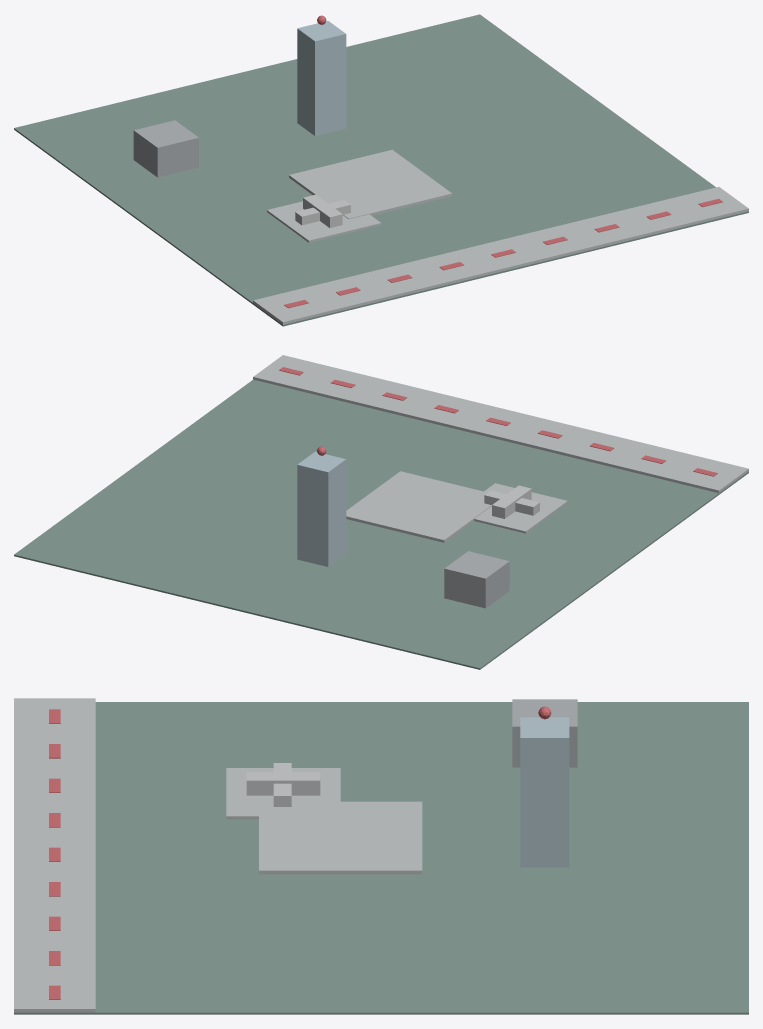
File: stage_04.glb
The picture shows the model from 3 angles, top to bottom: view 1: azimuth 30°, elevation 25°; view 2: azimuth 150°, elevation 25°; view 3: azimuth 270°, elevation 25°; orthographic projection. The views are drawn at different scales.
Parts seen in each view (by area): view 1: geometry_0; view 2: geometry_0; view 3: geometry_0.
Boxes of the visible parts, box(x1,y1,x2,y2) form: geometry_0: box(14, 14, 748, 326); geometry_0: box(14, 355, 748, 669); geometry_0: box(14, 698, 748, 1014).
Bounding box in the file's own units: 9 × 2.06 × 9.
